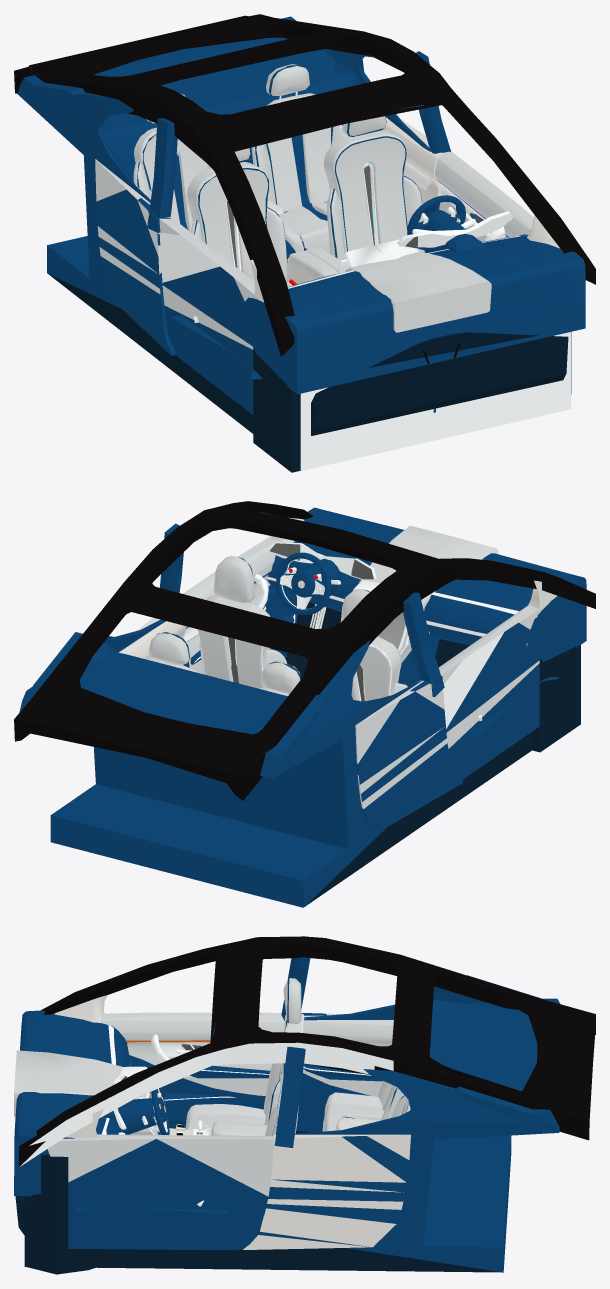
File: gt-interior.glb
3 views of the same model, one above another, from view 1: azimuth 30°, elevation 25°; view 2: azimuth 150°, elevation 25°; view 3: azimuth 270°, elevation 25° (orthographic). The views are drawn at different scales.
Parts seen in each view (by area): view 1: Solid1_02 - Default_0, steering-wheel-mesh; view 2: Solid1_02 - Default_0, steering-wheel-mesh; view 3: Solid1_02 - Default_0, steering-wheel-mesh.
Boxes of the visible parts, x1,y1,x2,y2 form: Solid1_02 - Default_0: [14, 14, 595, 472]; steering-wheel-mesh: [407, 195, 465, 250]; Solid1_02 - Default_0: [14, 501, 595, 907]; steering-wheel-mesh: [276, 552, 331, 614]; Solid1_02 - Default_0: [14, 936, 595, 1274]; steering-wheel-mesh: [150, 1087, 169, 1134].
Bounding box in the file's own units: 1.64 × 1.23 × 2.91.
1 material, 1 textured.
